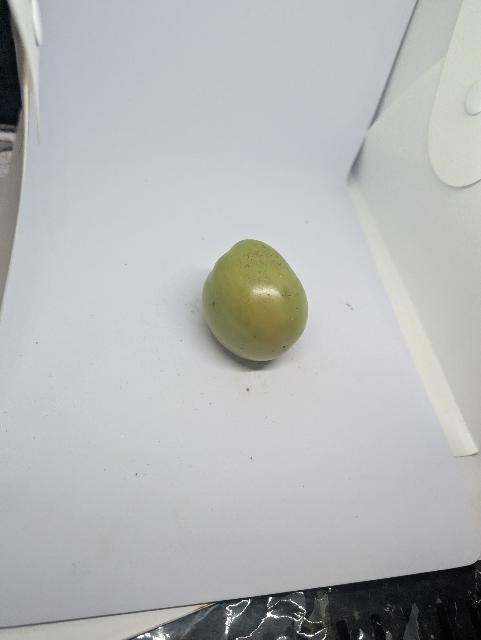green: (199, 236, 312, 365)
